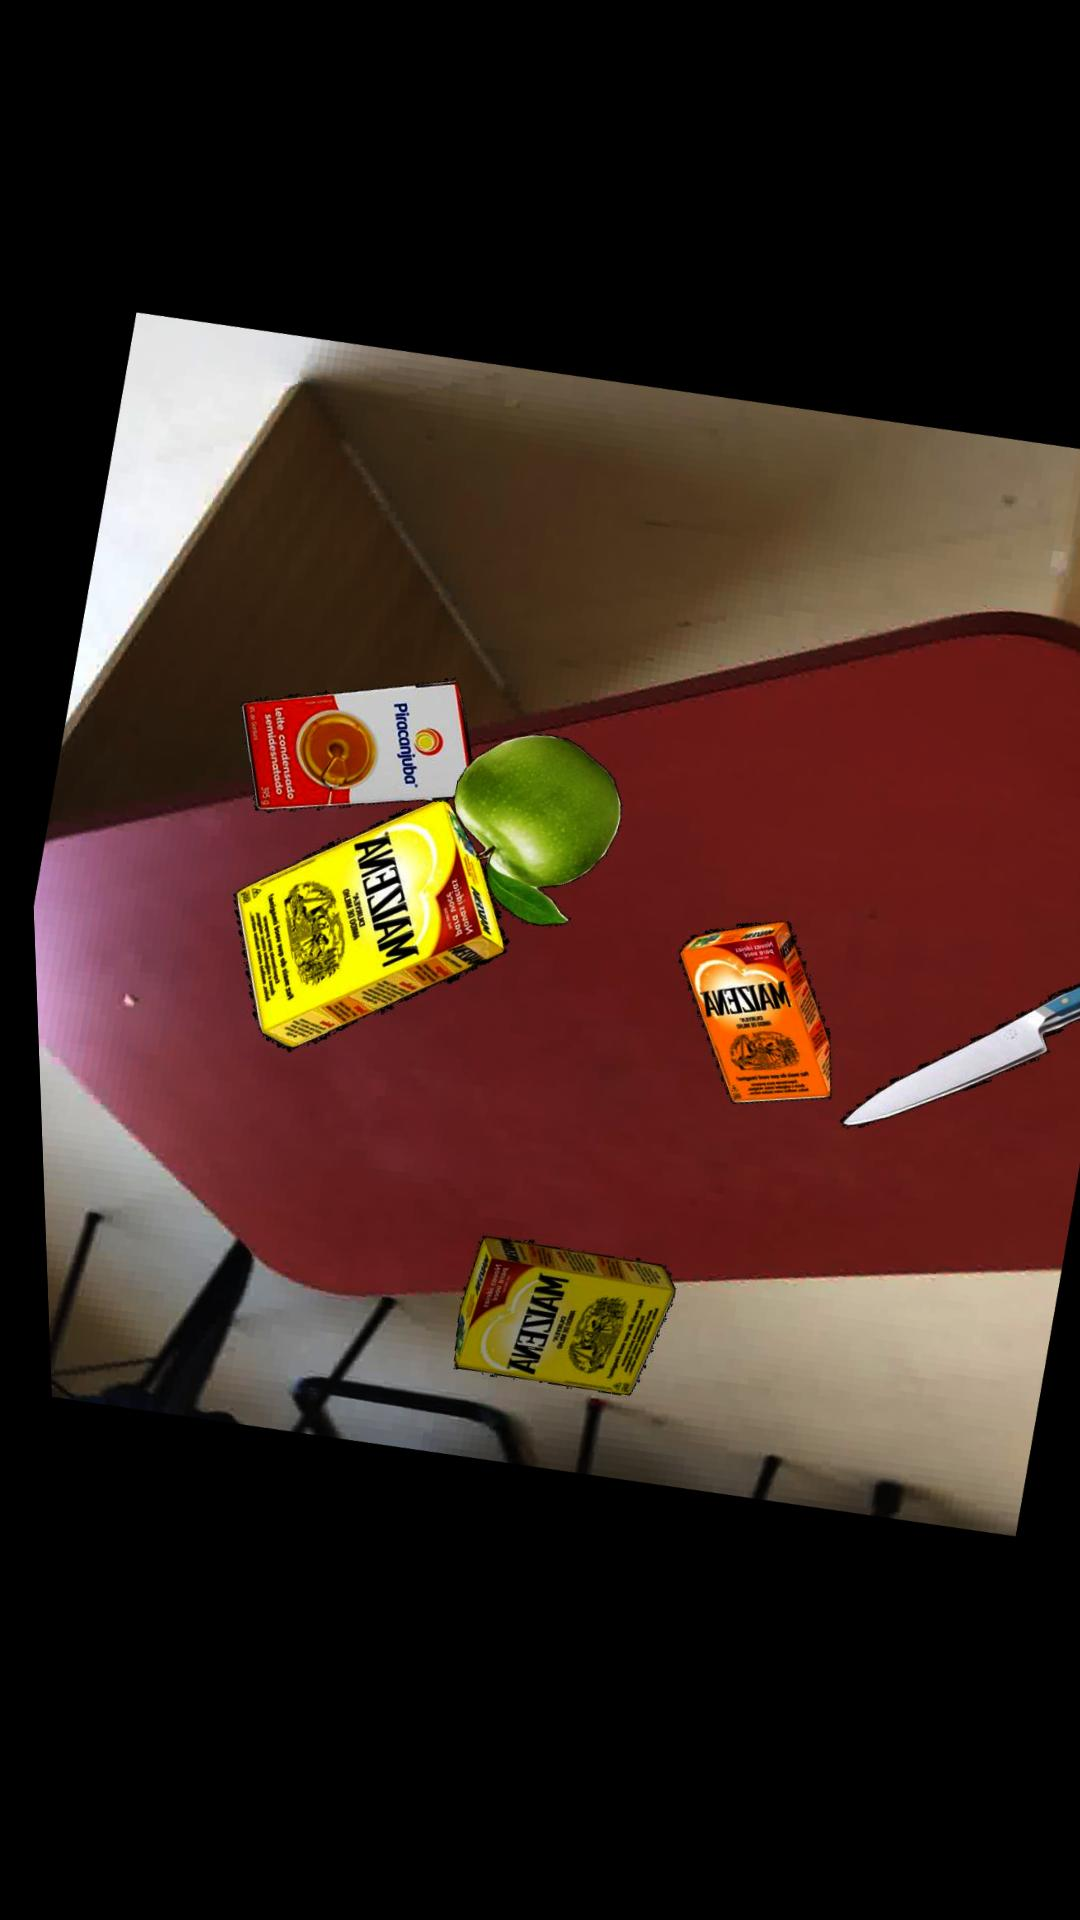green apple: (447, 740, 616, 931)
knife: (832, 996, 1080, 1135)
